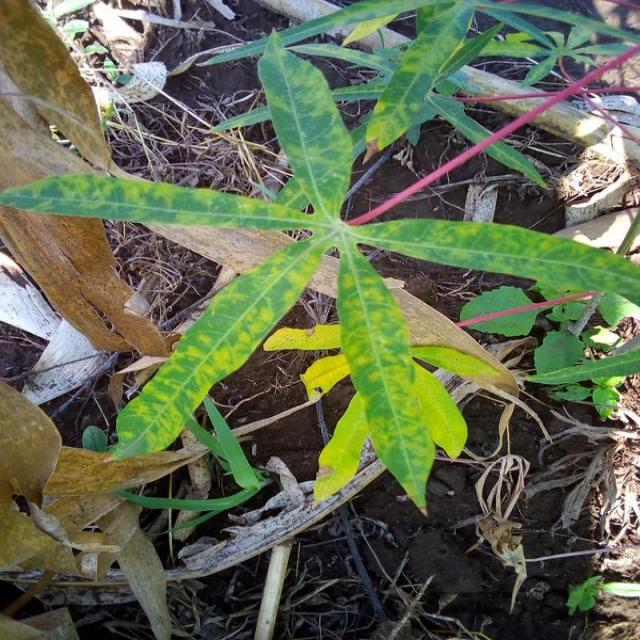cassava leaf: (2, 16, 638, 516), (334, 236, 436, 515), (256, 29, 354, 224)
